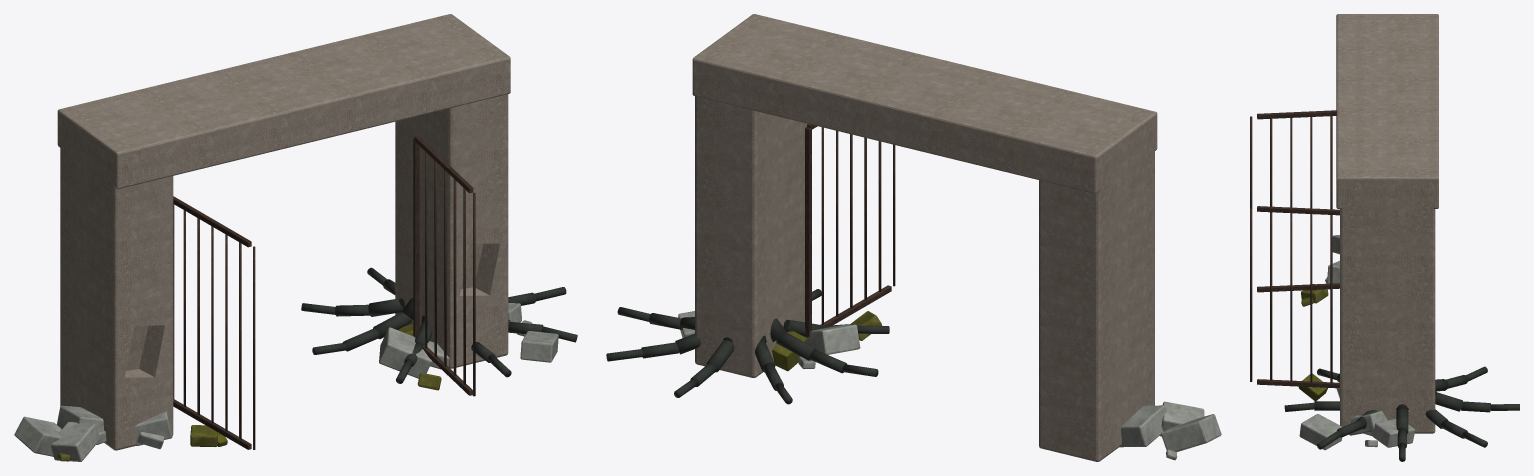
File: f3_v3_greenhouse_gate.glb
3 renders of one model, left to right at view 1: azimuth 30°, elevation 25°; view 2: azimuth 150°, elevation 25°; view 3: azimuth 270°, elevation 25°, orthographic. The views are drawn at different scales.
Parts seen in each view (by area): view 1: f3_weathered_concrete_surface, f3_oxidized_iron_surface, f3_exposed_aggregate_surface, f3_deep_crack_surface, f3_damp_concrete_surface; view 2: f3_weathered_concrete_surface, f3_deep_crack_surface, f3_exposed_aggregate_surface, f3_oxidized_iron_surface, f3_damp_concrete_surface; view 3: f3_weathered_concrete_surface, f3_oxidized_iron_surface, f3_deep_crack_surface, f3_exposed_aggregate_surface, f3_damp_concrete_surface.
Part boxes in pixels (x1,y1,x2,y2): f3_weathered_concrete_surface: (57, 14, 510, 450); f3_oxidized_iron_surface: (173, 136, 475, 449); f3_exposed_aggregate_surface: (14, 303, 558, 461); f3_deep_crack_surface: (301, 267, 577, 383); f3_damp_concrete_surface: (57, 324, 441, 461); f3_weathered_concrete_surface: (692, 14, 1157, 461); f3_deep_crack_surface: (606, 289, 889, 404); f3_exposed_aggregate_surface: (678, 311, 1221, 460); f3_oxidized_iron_surface: (805, 124, 895, 337); f3_damp_concrete_surface: (772, 311, 882, 371); f3_weathered_concrete_surface: (1336, 14, 1438, 433); f3_oxidized_iron_surface: (1250, 110, 1339, 388); f3_deep_crack_surface: (1284, 366, 1519, 461); f3_exposed_aggregate_surface: (1299, 235, 1415, 450); f3_damp_concrete_surface: (1298, 284, 1328, 401).
Size of the model in its own units: 7.54 by 3.94 by 3.68.
Materials: 5 (5 with a texture image).
